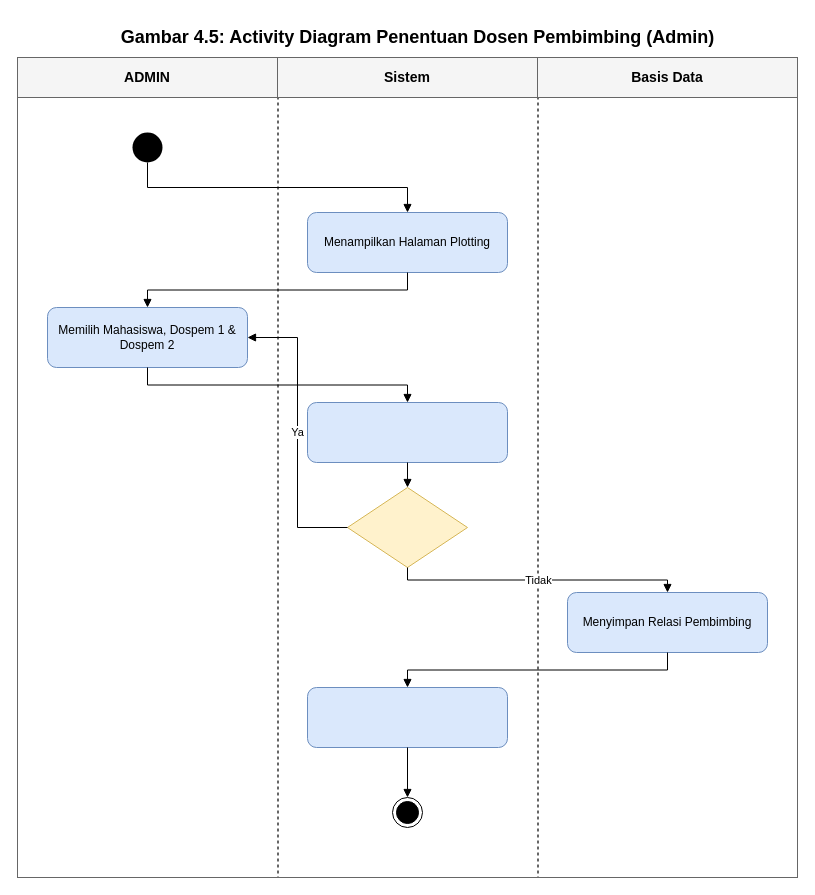
The diagram is 815 pixels wide and 895 high, and some of its shapes have lost their labels. The shapes that lost their labels are listed below. From the top down, each one's box as (x1, y1, x2, y2) in pixels, then its label:
(306, 402, 508, 462): Memeriksa Kesamaan Dosen
(346, 486, 468, 568): Dospem 1 == Dospem 2?
(306, 686, 508, 748): Menampilkan Plotting Berhasil
